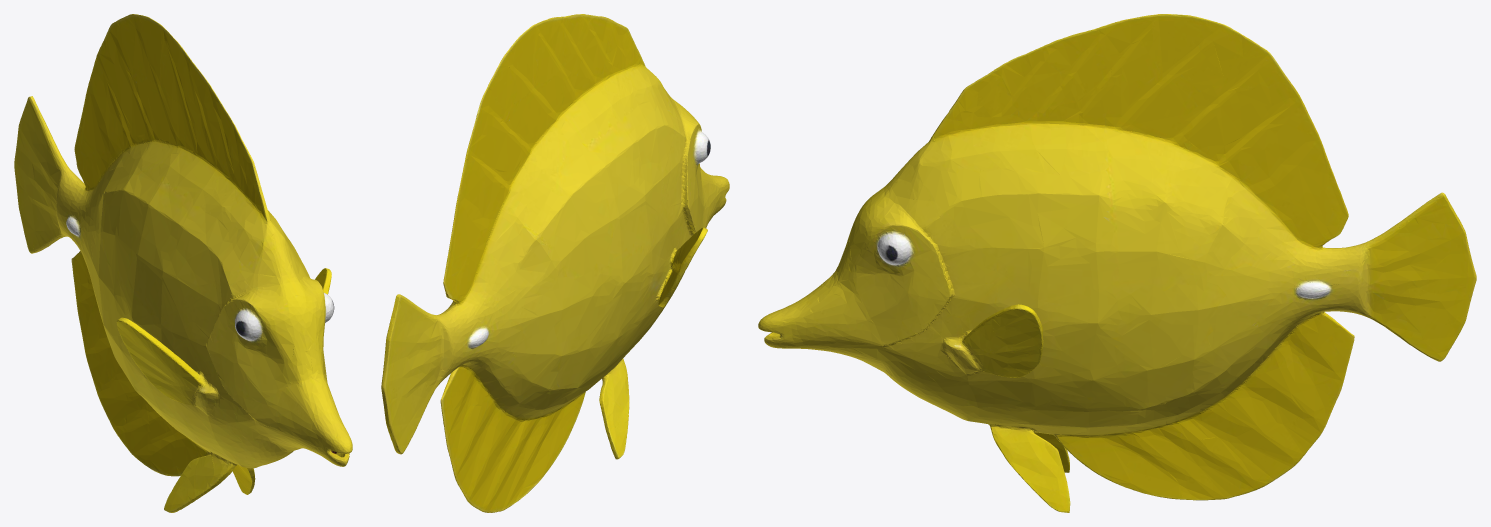
The model's file is meshy-tang.glb.
3 views of the same model, side by side, from view 1: azimuth 30°, elevation 25°; view 2: azimuth 150°, elevation 25°; view 3: azimuth 270°, elevation 25° (orthographic). The views are drawn at different scales.
Parts seen in each view (by area): view 1: mesh_node; view 2: mesh_node; view 3: mesh_node.
Boxes of the visible parts, bbox=[...] form: mesh_node: bbox=[14, 14, 352, 512]; mesh_node: bbox=[381, 14, 729, 512]; mesh_node: bbox=[758, 14, 1476, 512].
Bounding box in the file's own units: 0.6918 × 1.42 × 1.9.
Materials: 1 (1 with a texture image).
